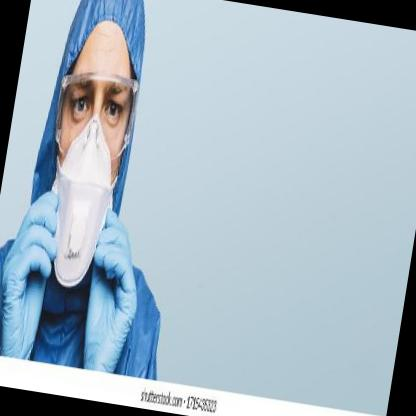Gloves: (76, 211, 152, 376), (0, 186, 67, 363)
